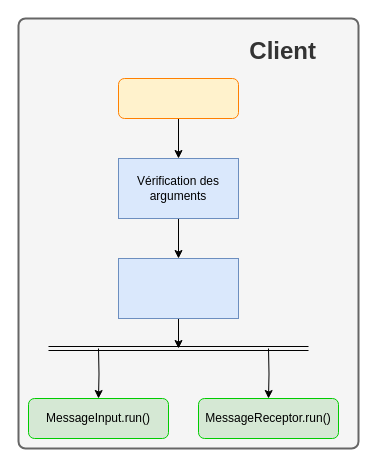
Image size: 376x466. Some labels were removed from this diagram. Each missing label, with the centre of its shape:
"Connexion au serveur" belongs at (178,288).
"main(String[] args)" belongs at (178,98).
